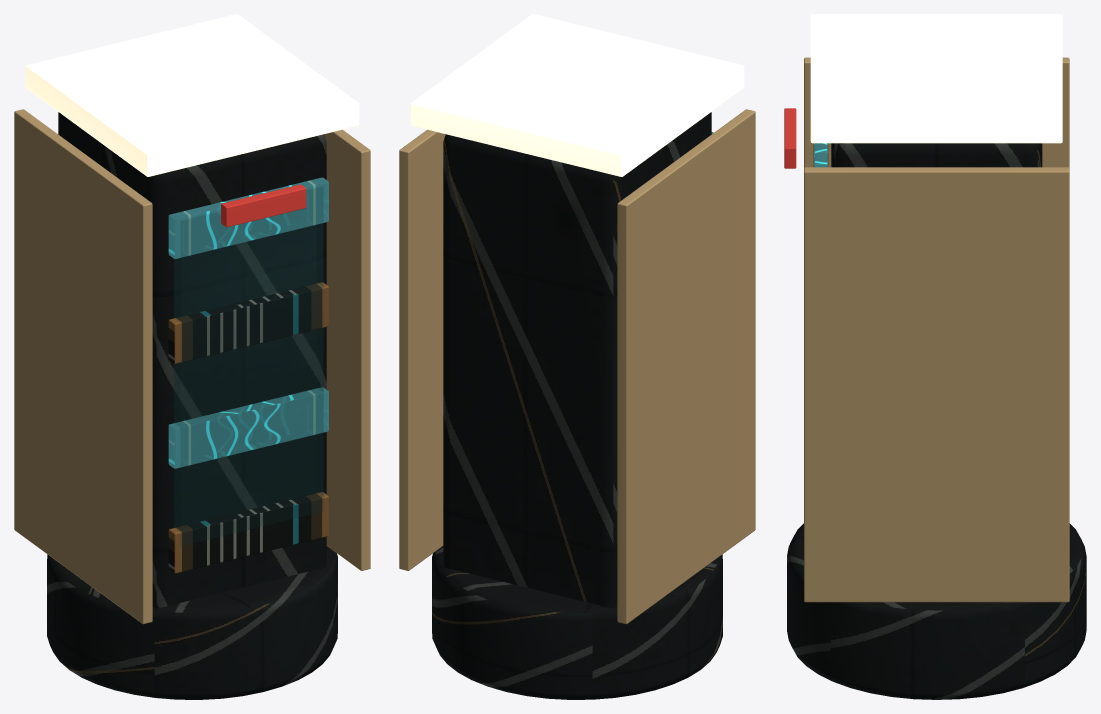
Rendered from hp_room_museum_archive_column.glb.
3 views of the same model, side by side, from view 1: azimuth 30°, elevation 25°; view 2: azimuth 150°, elevation 25°; view 3: azimuth 270°, elevation 25° (orthographic). The views are drawn at different scales.
Parts seen in each view (by area): view 1: archive_side_brass_rail, archive_column_core, front_archive_judgement_glass, archive_top_warm_cap, archive_round_plinth, archive_label_band_0, archive_label_band_1, archive_tiny_red_relabel_warning; view 2: archive_side_brass_rail, archive_column_core, archive_top_warm_cap, archive_round_plinth; view 3: archive_side_brass_rail, archive_top_warm_cap, archive_round_plinth, archive_column_core, archive_tiny_red_relabel_warning.
Boxes of the visible parts, x1,y1,x2,y2 form: archive_side_brass_rail: (14, 109, 370, 624); archive_column_core: (58, 112, 326, 608); front_archive_judgement_glass: (174, 186, 323, 545); archive_top_warm_cap: (25, 14, 359, 176); archive_round_plinth: (47, 546, 337, 699); archive_label_band_0: (168, 282, 328, 573); archive_label_band_1: (168, 177, 328, 468); archive_tiny_red_relabel_warning: (221, 184, 306, 227); archive_side_brass_rail: (399, 109, 755, 624); archive_column_core: (443, 112, 711, 608); archive_top_warm_cap: (410, 14, 744, 176); archive_round_plinth: (432, 546, 722, 699); archive_side_brass_rail: (804, 57, 1069, 602); archive_top_warm_cap: (810, 14, 1062, 143); archive_round_plinth: (787, 523, 1086, 699); archive_column_core: (831, 143, 1042, 167); archive_tiny_red_relabel_warning: (784, 108, 796, 168).
Bounding box in the file's own units: 1.11 × 2.34 × 1.12.
Materials: 8 (5 with a texture image).
